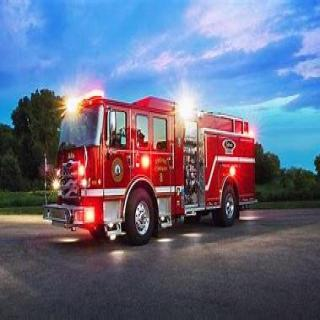Fire_truck: (41, 90, 258, 244)
